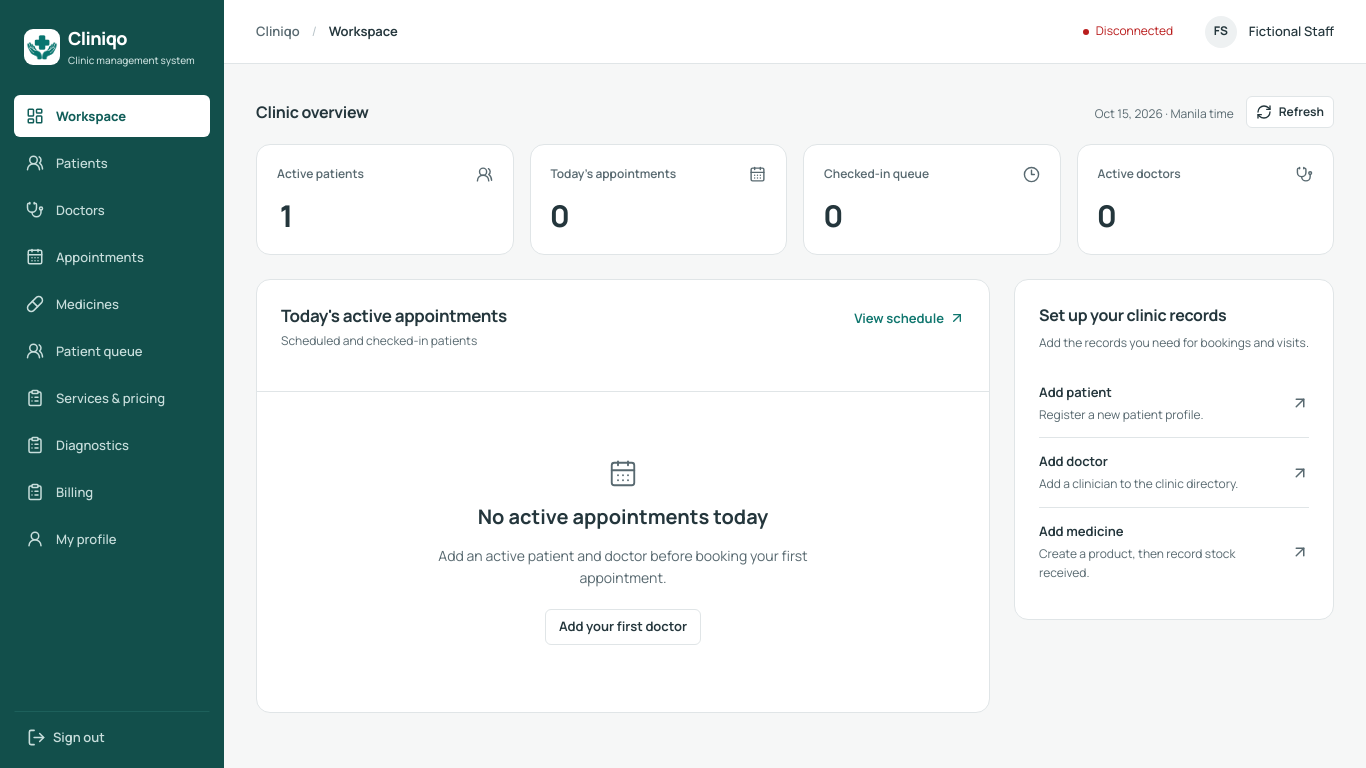
Test: appointment and dashboard components › guides staff to the missing doctor directory before booking and updates the action after refresh
The image size is (1366, 768).
Expected: the heading "Set up your clinic records" is shown, [1039,304,1226,326]
Expected: the link "Book appointment" is not shown
Step 1. Click the button "Refresh" → (1290, 112), box [1246,96,1334,128]
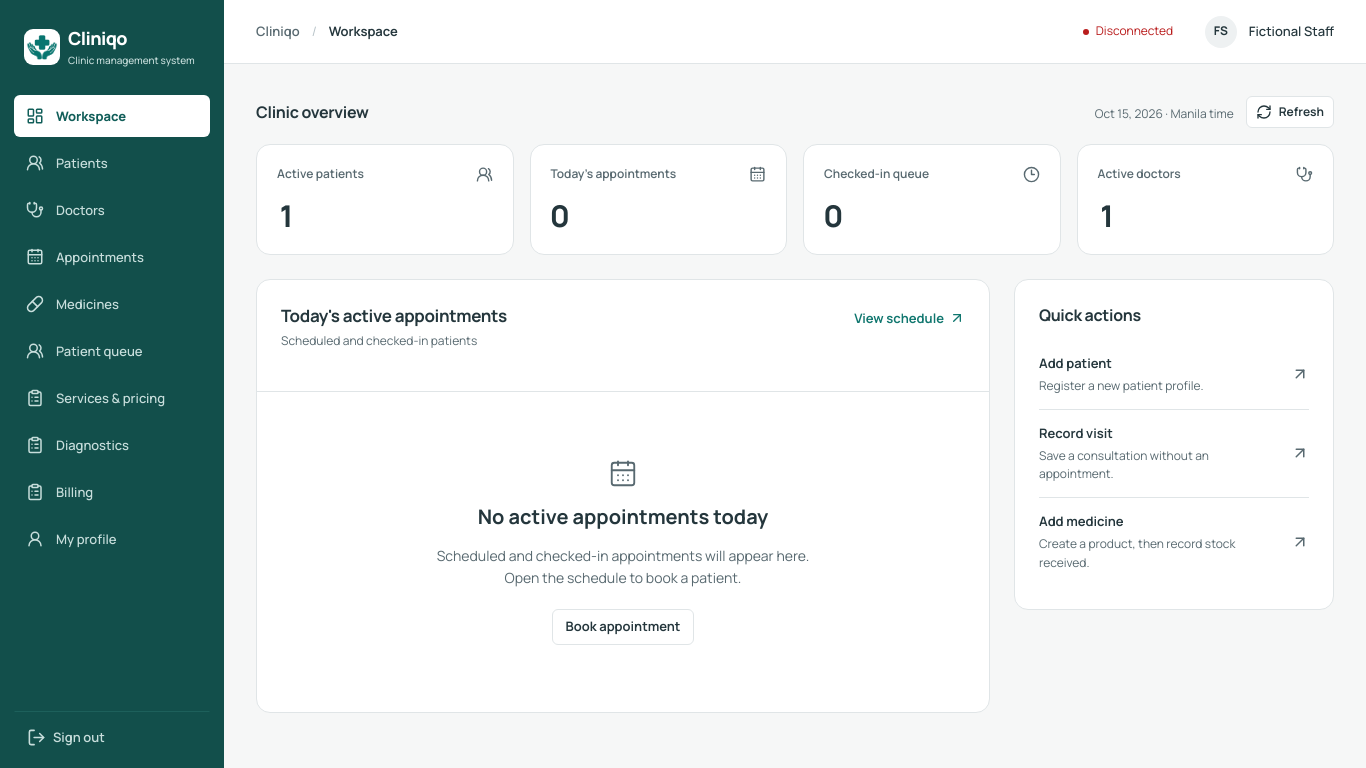
Result: the heading "Quick actions" is shown at [1039,304,1141,326]
Result: the link "Add your first doctor" is gone
